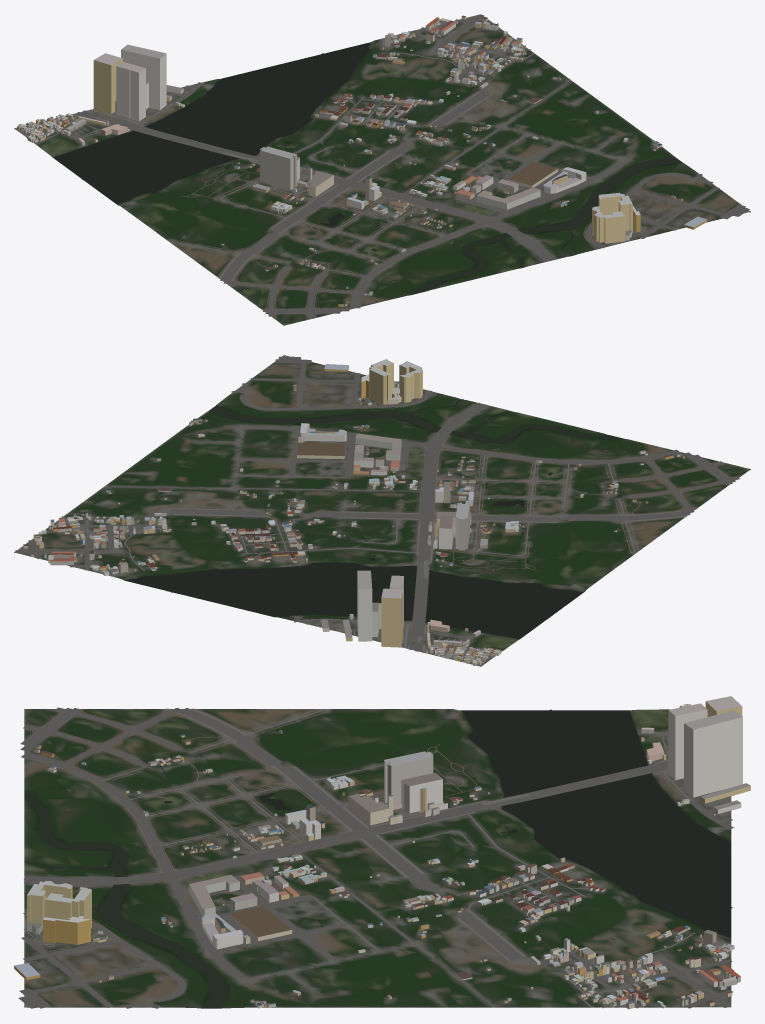
3 renders of one model, top to bottom at view 1: azimuth 30°, elevation 25°; view 2: azimuth 150°, elevation 25°; view 3: azimuth 270°, elevation 25°, orthographic. The views are drawn at different scales.
Parts seen in each view (by area): view 1: ground, buildings, water, roads; view 2: ground, water, buildings, roads; view 3: ground, water, buildings, roads.
Boxes of the visible parts, <box> form: ground: <box>14,14,750,325</box>; buildings: <box>17,15,707,306</box>; water: <box>53,42,682,294</box>; roads: <box>17,14,750,319</box>; ground: <box>14,355,750,666</box>; water: <box>125,399,622,638</box>; buildings: <box>23,359,684,665</box>; roads: <box>15,355,742,664</box>; ground: <box>24,709,731,1008</box>; water: <box>24,709,732,1007</box>; buildings: <box>14,696,750,1009</box>; roads: <box>18,707,734,1008</box>.
Size of the model in its own units: 1414 by 154 by 1460.
